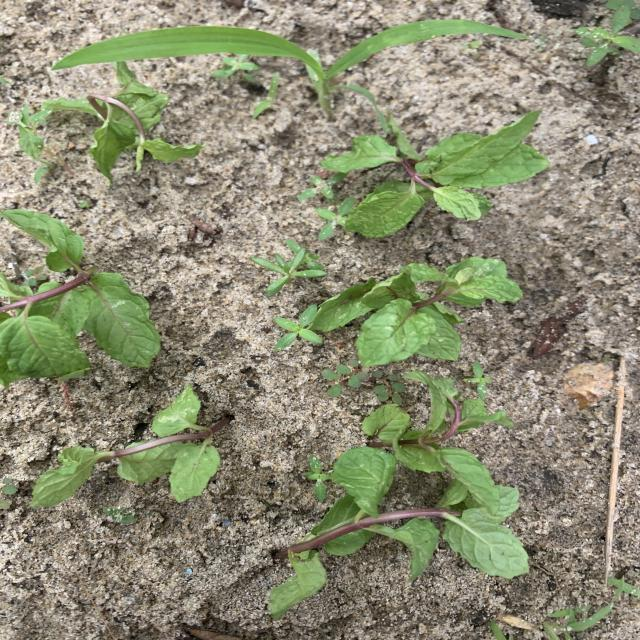crop: (273, 444, 527, 619), (320, 111, 546, 237), (2, 210, 159, 386), (31, 387, 227, 507), (311, 260, 521, 366), (362, 372, 511, 509), (49, 62, 200, 183)
weed: (52, 20, 526, 121), (8, 104, 74, 184), (252, 240, 325, 295), (575, 27, 640, 66), (542, 603, 612, 639), (275, 306, 320, 349), (322, 360, 369, 395), (317, 198, 352, 239), (253, 73, 280, 118), (300, 173, 345, 199), (371, 370, 405, 403), (213, 54, 258, 78), (605, 0, 639, 31), (305, 455, 328, 499), (464, 362, 491, 399), (1, 478, 18, 510), (102, 507, 136, 523), (23, 268, 46, 284), (490, 621, 505, 639)
